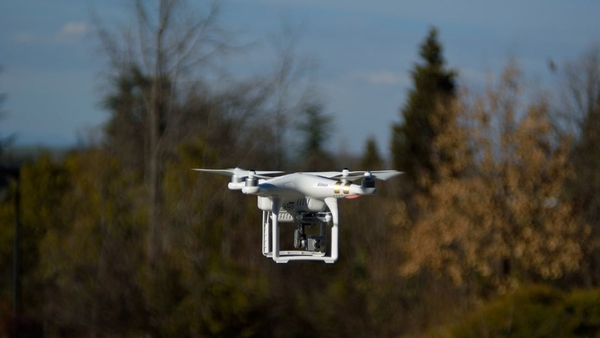drone: (187, 165, 406, 266)
